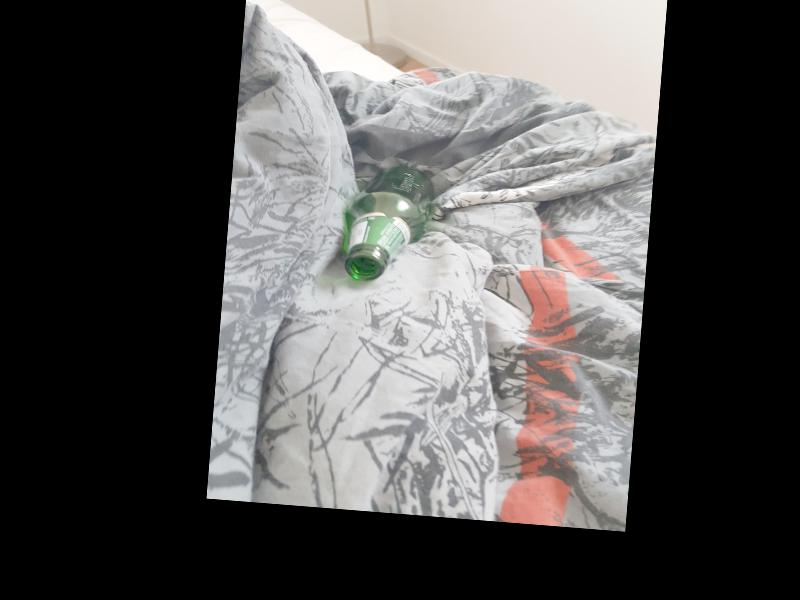Beer: (339, 161, 435, 286)
